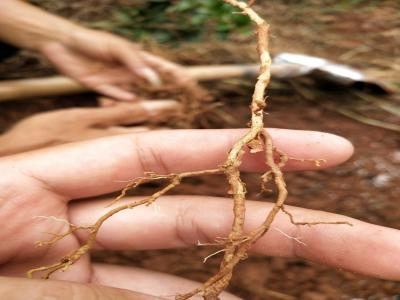Root: (27, 0, 325, 300)
